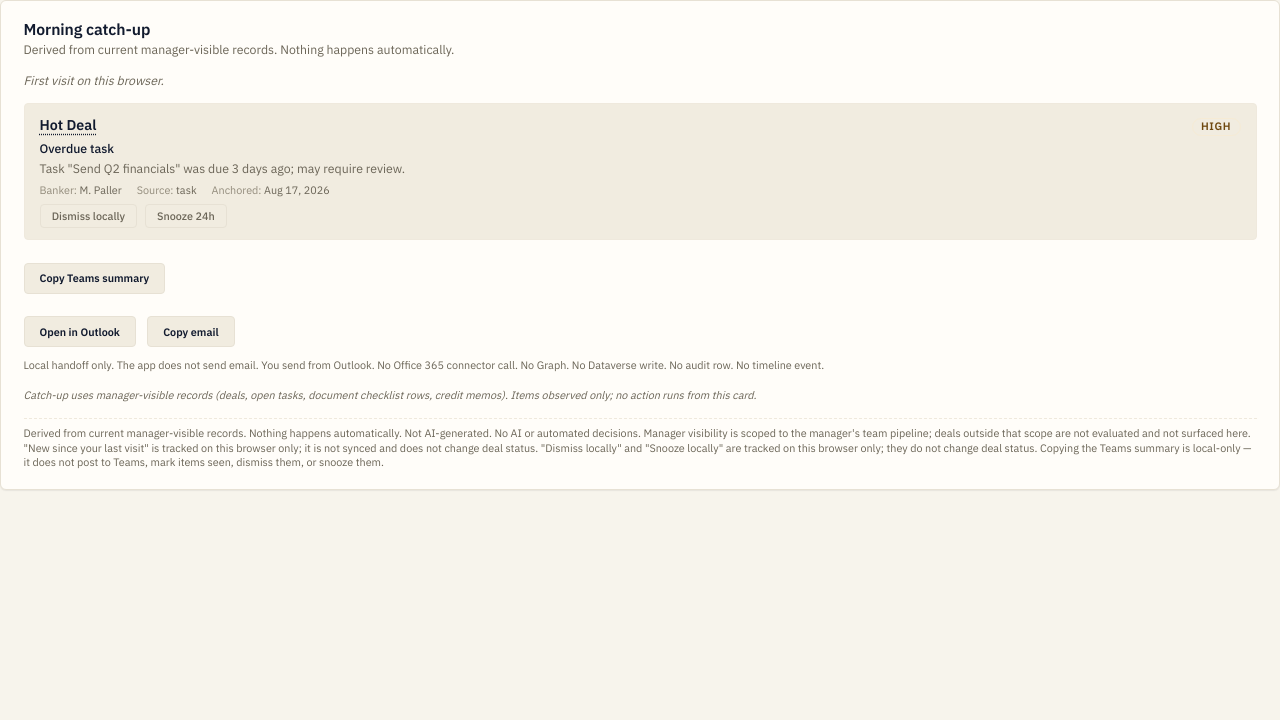
Test: ManagerMorningCatchUp — Phase 88 › Phase 91 — local catch-up item ledger › clicking Restore brings back the Dismiss/Snooze controls
Click the button with aria-label "Dismiss catch-up item for Hot Deal locally": (88, 216) [40,204,137,228]
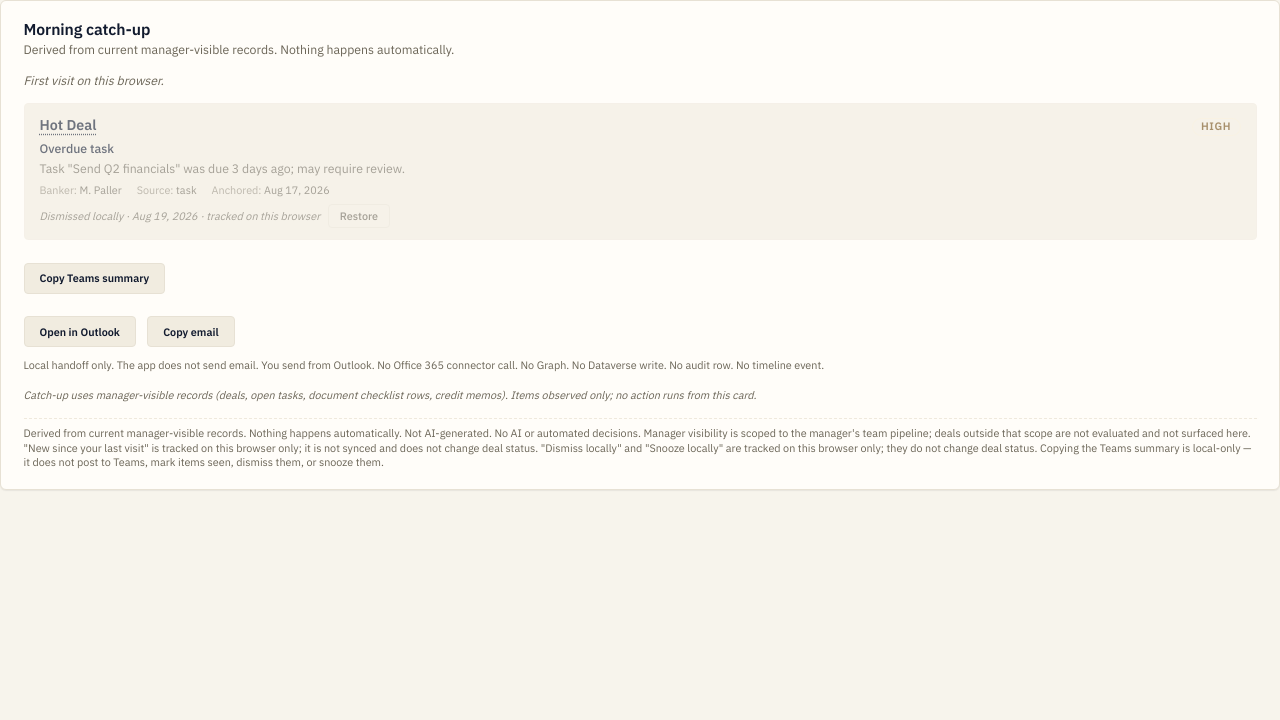
Click the button with aria-label "Restore catch-up item for Hot Deal": (359, 216) [328,204,390,228]
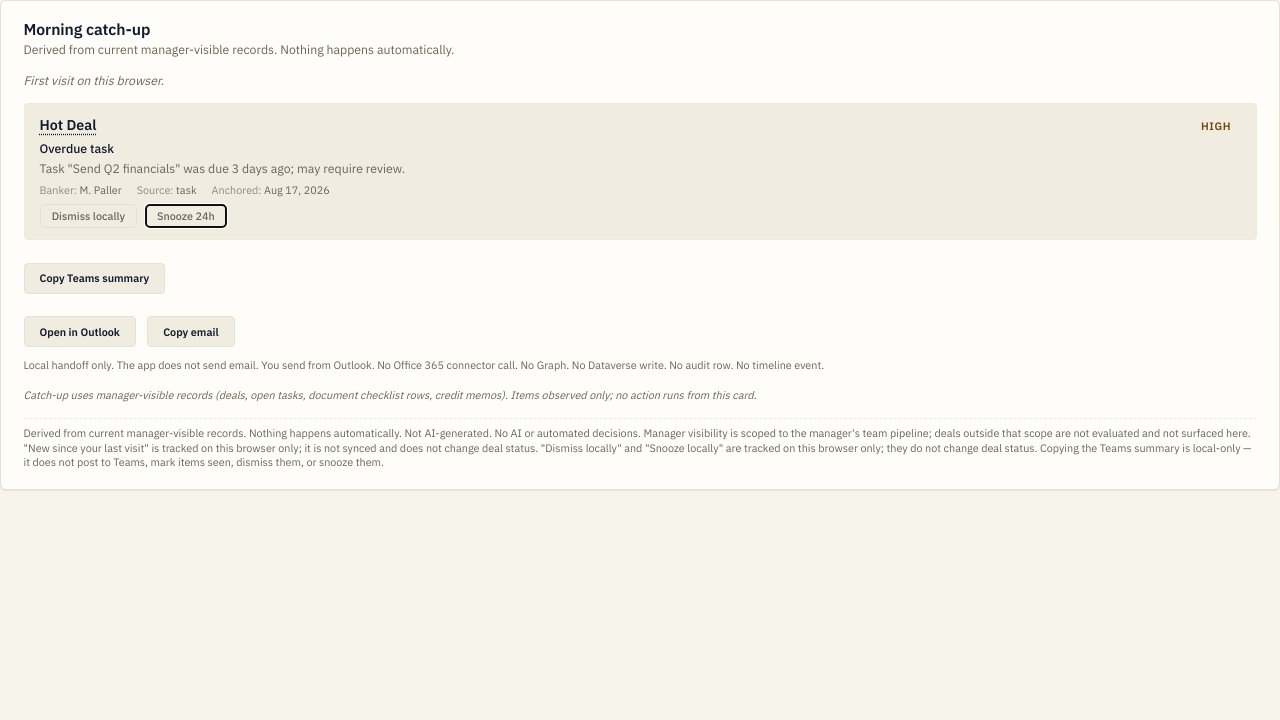
Expected: the button with aria-label "Dismiss catch-up item for Hot Deal locally" is shown, [40,204,137,228]
Expected: the text "Dismissed locally" is gone
